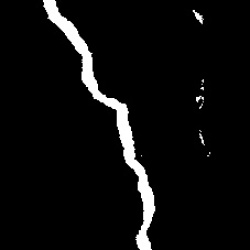crack: (43, 2, 155, 248), (196, 79, 206, 110), (193, 9, 204, 23), (198, 130, 205, 148)
